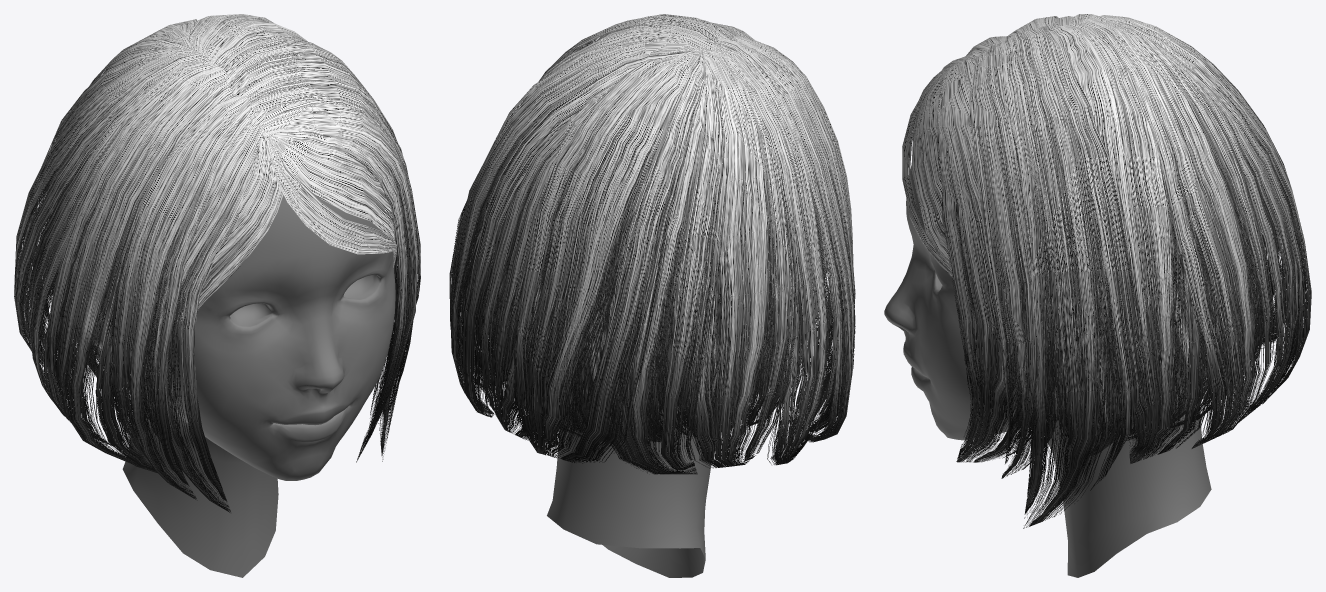
File: hair.glb
3 renders of one model, left to right at view 1: azimuth 30°, elevation 25°; view 2: azimuth 150°, elevation 25°; view 3: azimuth 270°, elevation 25°, orthographic. The views are drawn at different scales.
Visible parts, largest first — view 1: Wolf3D_Hair.004, Wolf3D_Head; view 2: Wolf3D_Hair.004, Wolf3D_Head; view 3: Wolf3D_Hair.004, Wolf3D_Head.
Part boxes in pixels (x1,y1,x2,y2): Wolf3D_Hair.004: [14, 14, 420, 512]; Wolf3D_Head: [54, 33, 395, 577]; Wolf3D_Hair.004: [449, 14, 855, 474]; Wolf3D_Head: [475, 35, 822, 577]; Wolf3D_Hair.004: [902, 14, 1311, 528]; Wolf3D_Head: [884, 31, 1250, 577].
Size of the model in its own units: 0.2064 by 0.3042 by 0.2162.
Materials: 2 (1 with a texture image).
